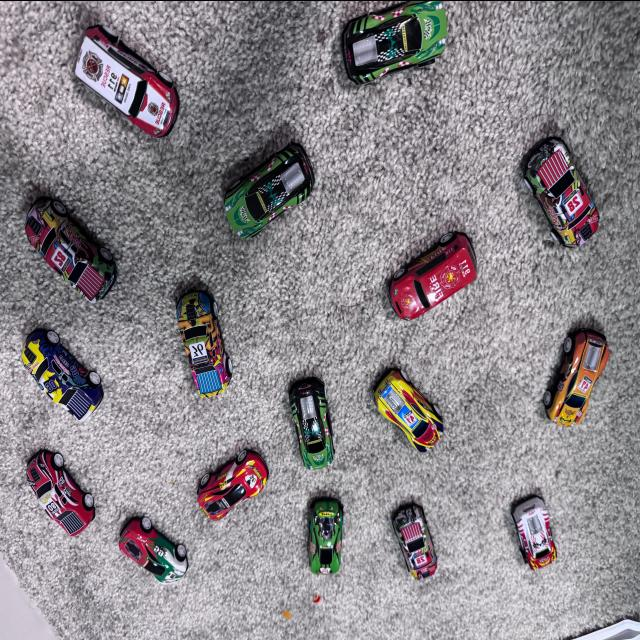car: (56, 10, 192, 168), (6, 157, 120, 318), (304, 0, 470, 98), (516, 107, 604, 283), (148, 264, 233, 426), (3, 305, 101, 443), (2, 427, 94, 553), (363, 344, 455, 466), (488, 451, 562, 596), (202, 142, 314, 236), (370, 221, 488, 309), (361, 479, 446, 597), (276, 350, 350, 472), (118, 502, 190, 618), (531, 334, 609, 440), (282, 496, 358, 599), (183, 440, 270, 522)
